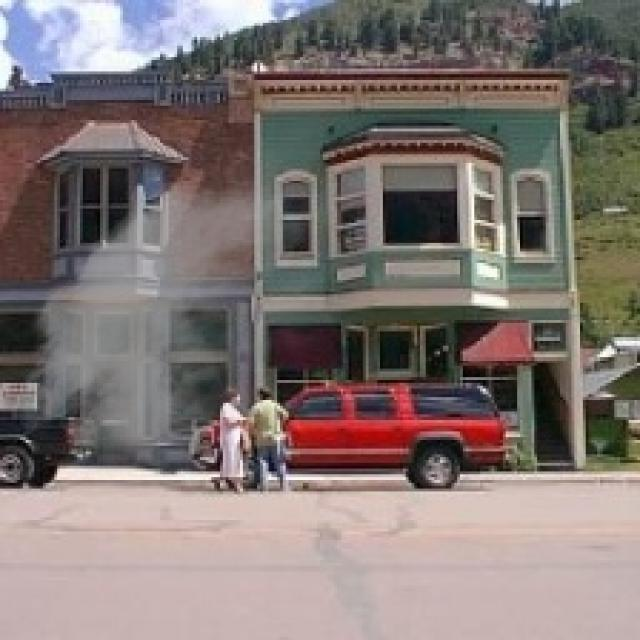Smoke: (9, 140, 358, 489)
